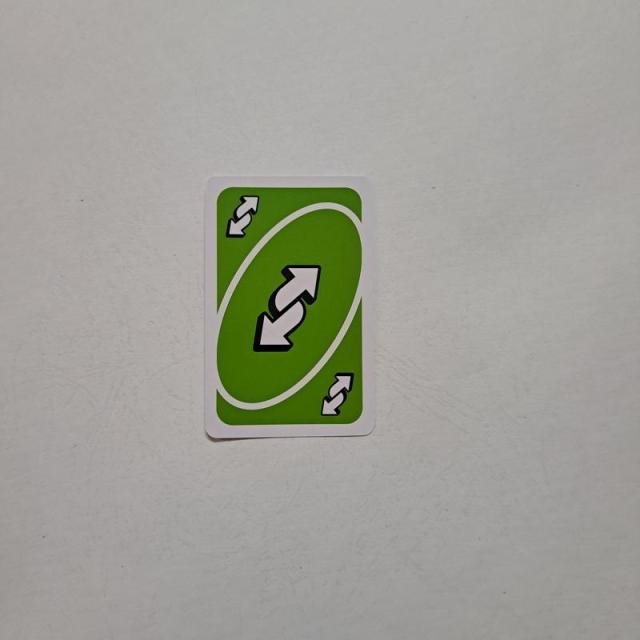Green_Card: (211, 179, 369, 431)
Reverse: (220, 191, 266, 244)
